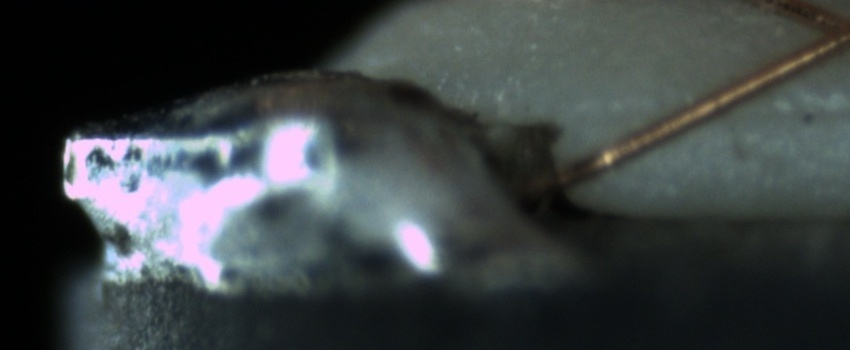CL: (796, 2, 850, 63)
DL: (630, 76, 849, 147)
